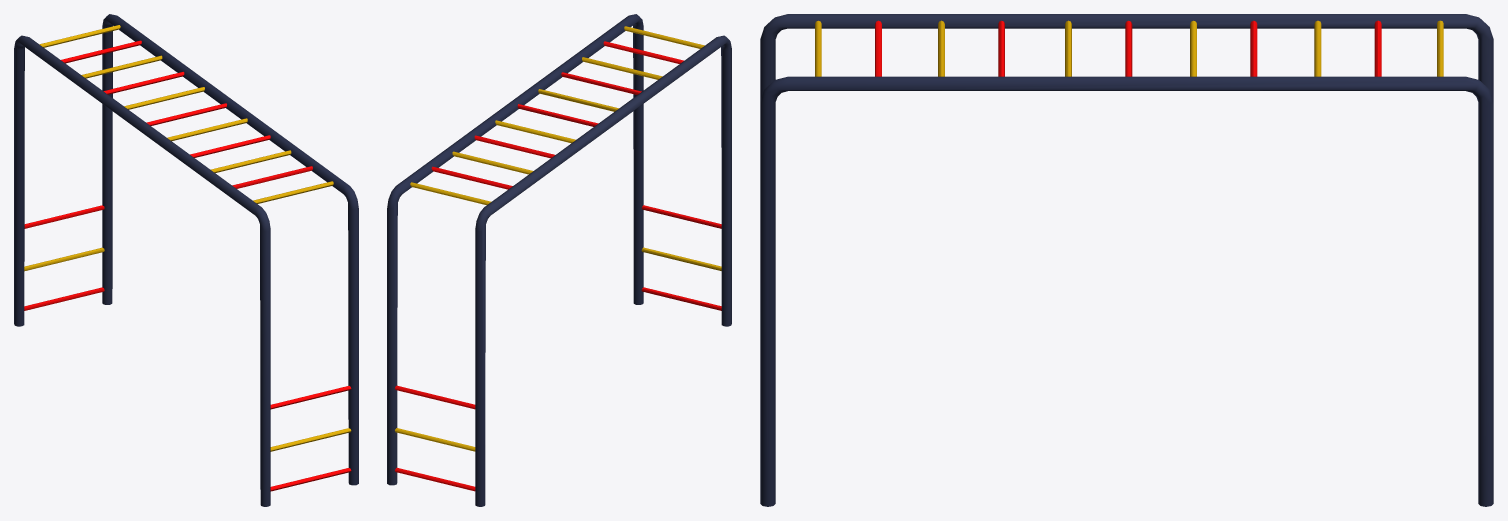
Rendered from SM_Playground_03.fbx.
The picture shows the model from 3 angles, left to right: view 1: azimuth 30°, elevation 25°; view 2: azimuth 150°, elevation 25°; view 3: azimuth 270°, elevation 25°; orthographic projection. The views are drawn at different scales.
Parts seen in each view (by area): view 1: SM_Playground_04; view 2: SM_Playground_04; view 3: SM_Playground_04.
Part boxes in pixels (left/top/right/bottom): SM_Playground_04: left=14, top=14, right=358, bottom=506; SM_Playground_04: left=387, top=14, right=731, bottom=506; SM_Playground_04: left=760, top=14, right=1493, bottom=506.
Size of the model in its own units: 80.84 by 233 by 362.
1 material, 1 textured.
